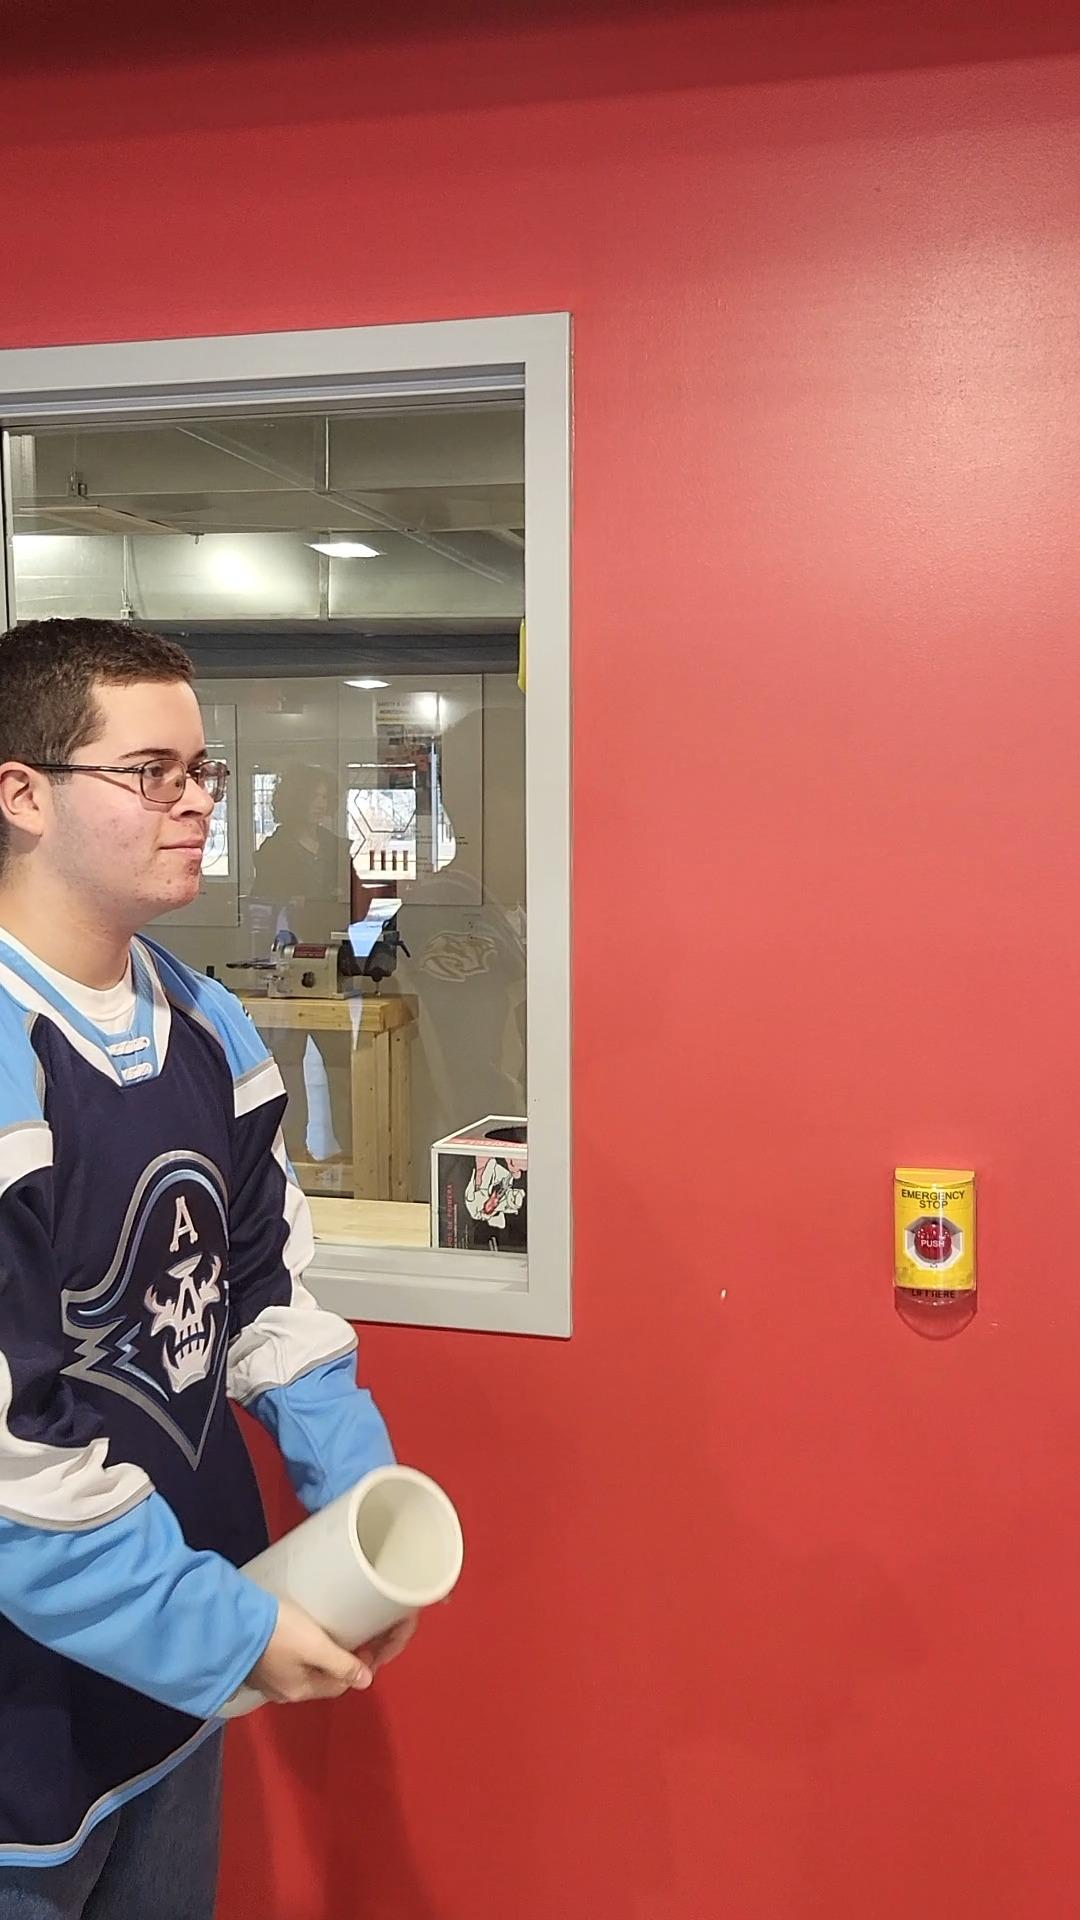coral: (214, 1473, 469, 1681)
